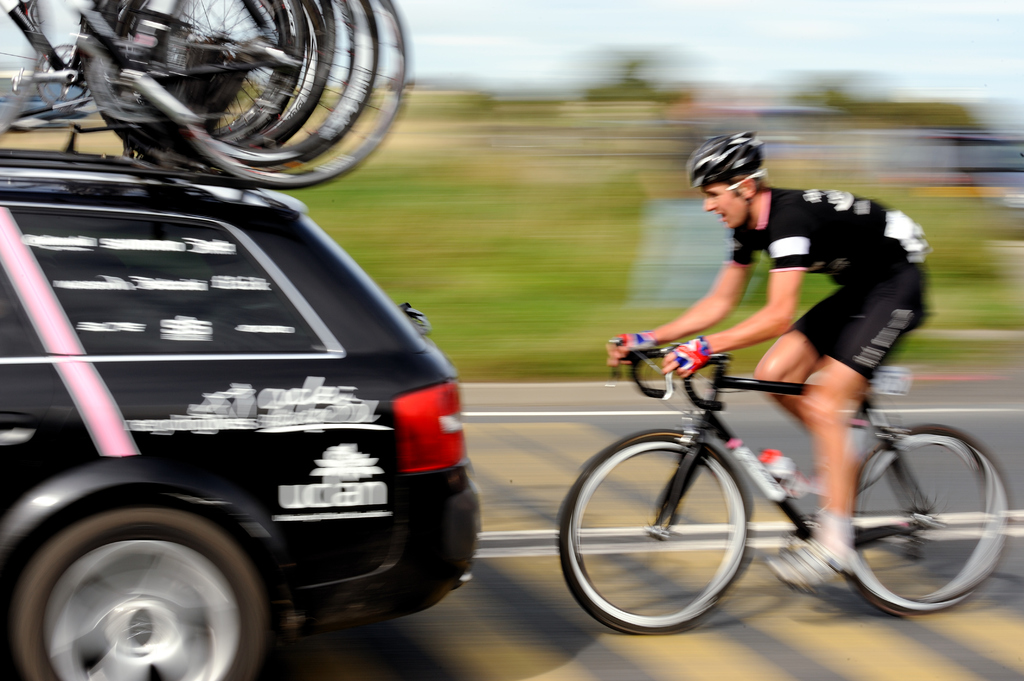Bike: (561, 362, 988, 678)
